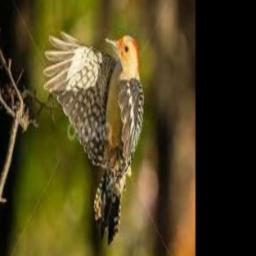Woodpecker: (43, 31, 145, 244)
